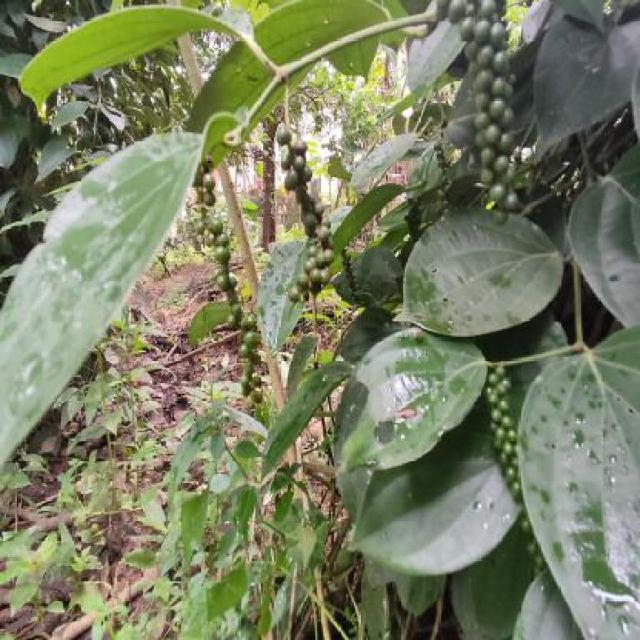UNRIPE: (447, 2, 518, 222), (195, 177, 262, 405), (276, 126, 333, 300), (485, 363, 519, 499), (520, 520, 542, 575), (432, 143, 446, 215), (340, 250, 358, 301), (406, 198, 423, 240)
